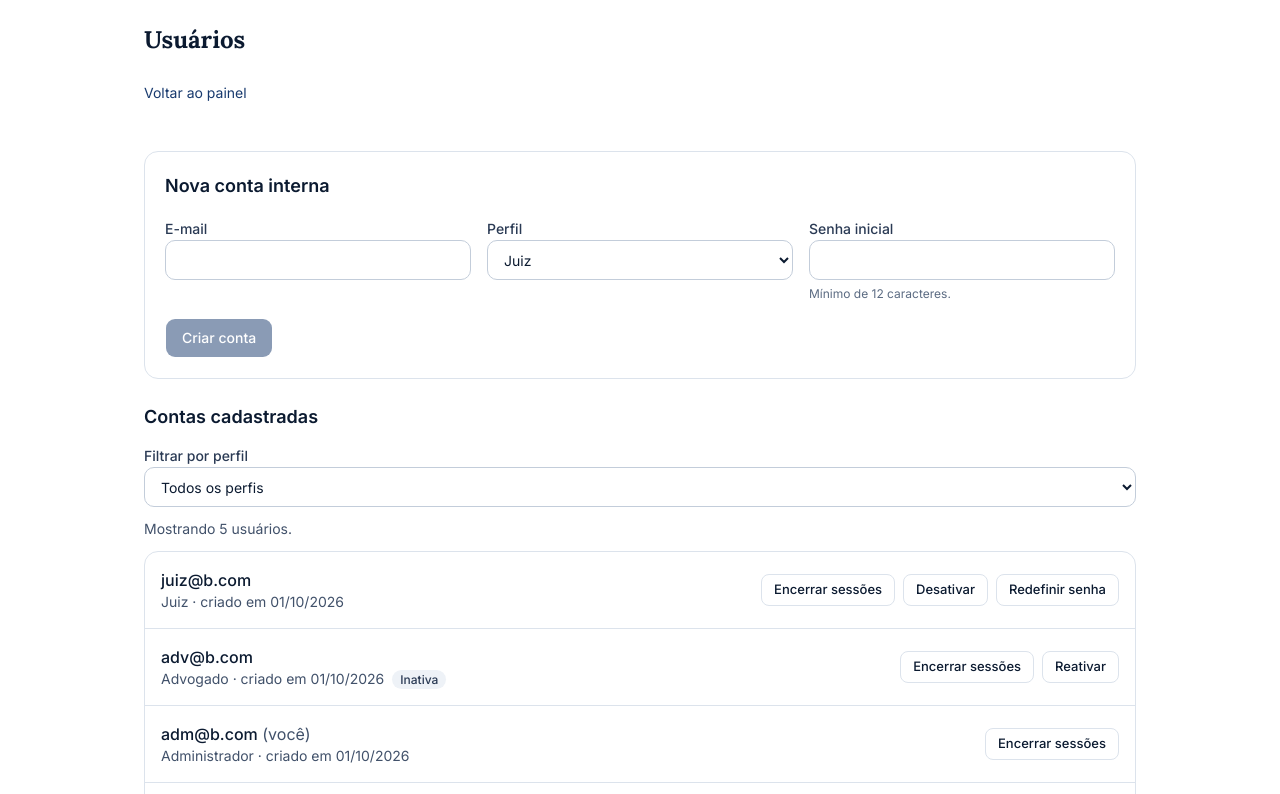
Test: UsersAdmin reset password › shows a 400 error in the alert and clears both fields
Expected: the text "juiz@b.com" is shown, [161,570,251,590]
Click the button "Redefinir senha" in the row of "juiz@b.com".
click(1058, 590)  # box [996,574,1119,606]
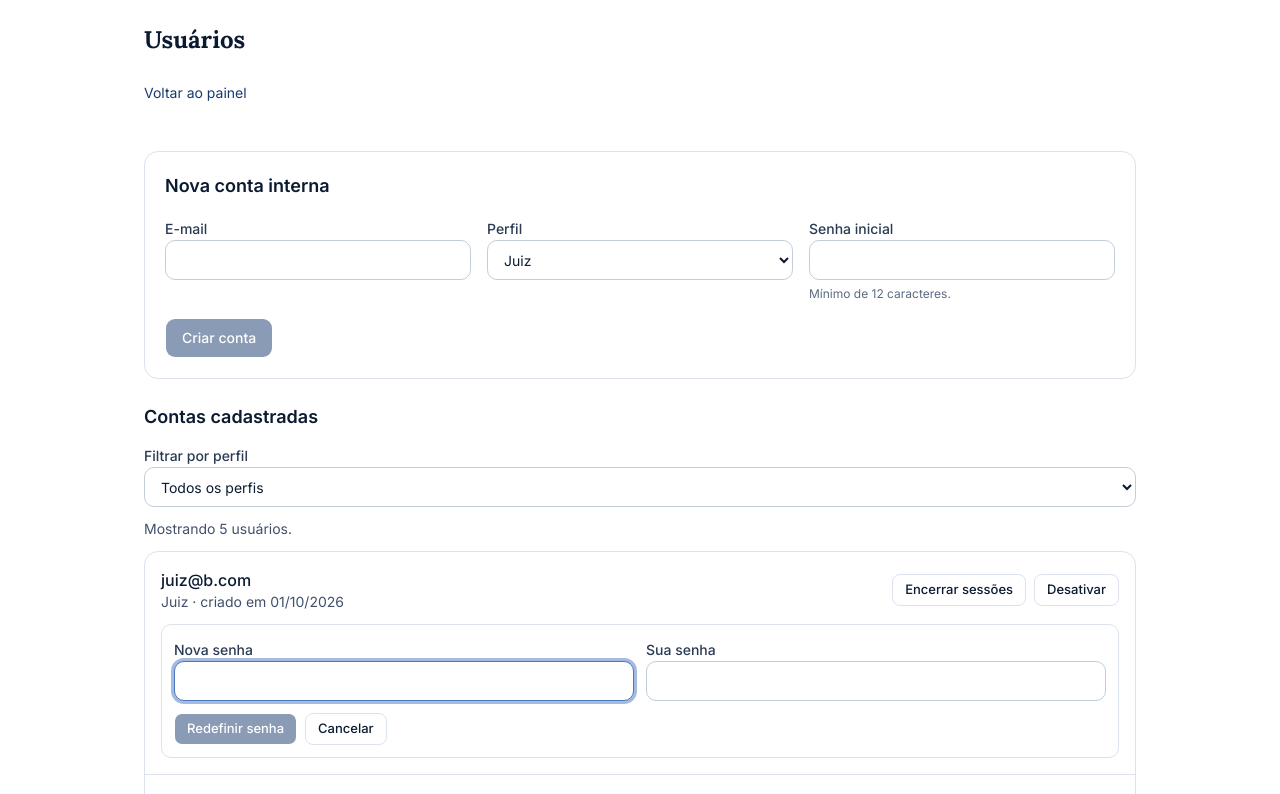
Type "nova-senha-forte" into the password field labelled "Nova senha".
click(404, 681); type("nova-senha-forte")  # box [174,661,634,701]
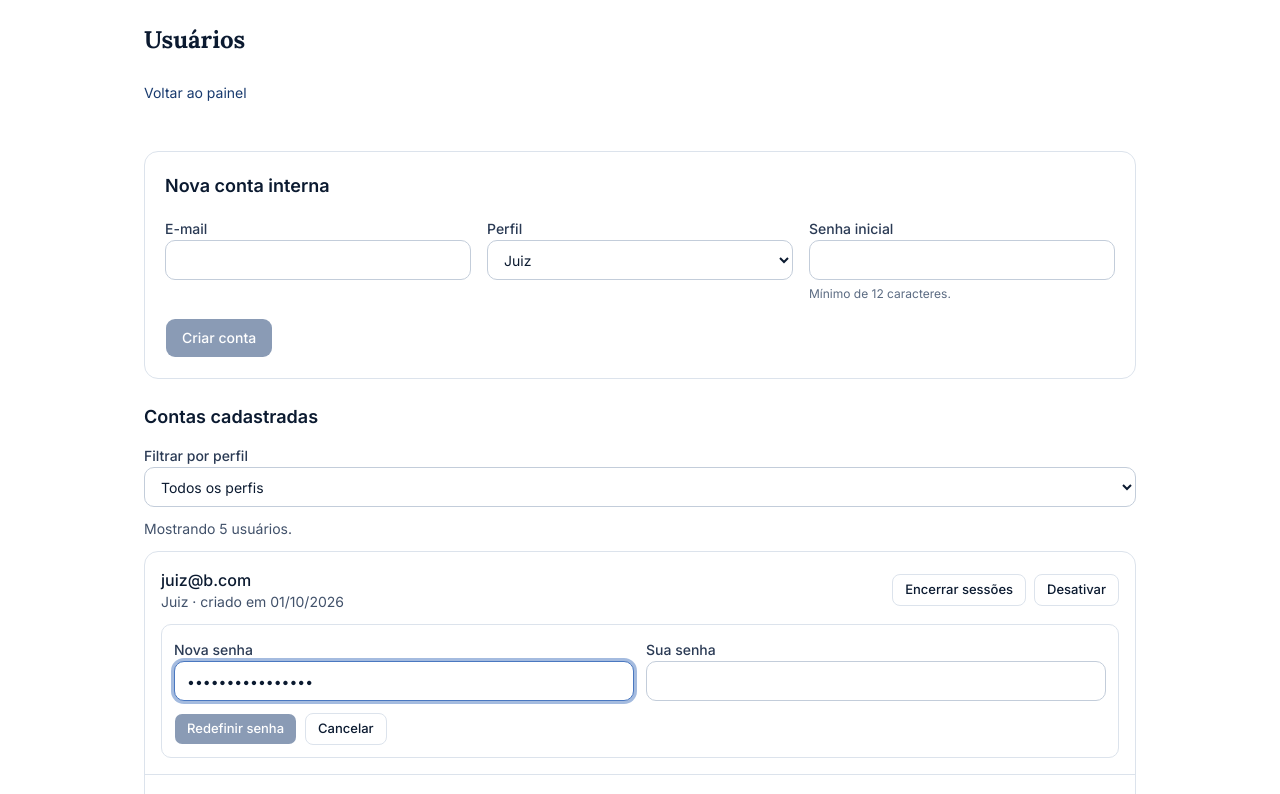
Type "minha-senha" into the password field labelled "Sua senha".
click(876, 681); type("minha-senha")  # box [646,661,1106,701]
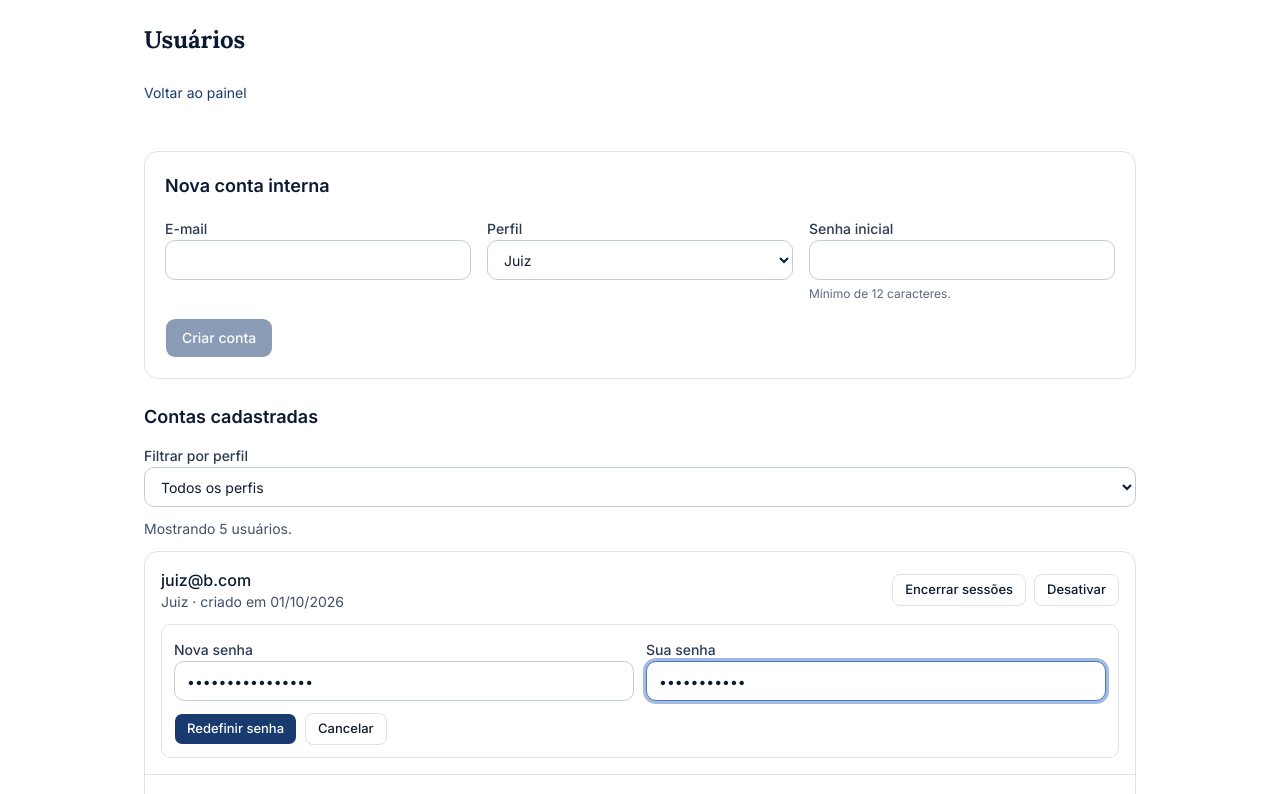
Click the button "Redefinir senha".
click(236, 729)  # box [174,713,297,745]
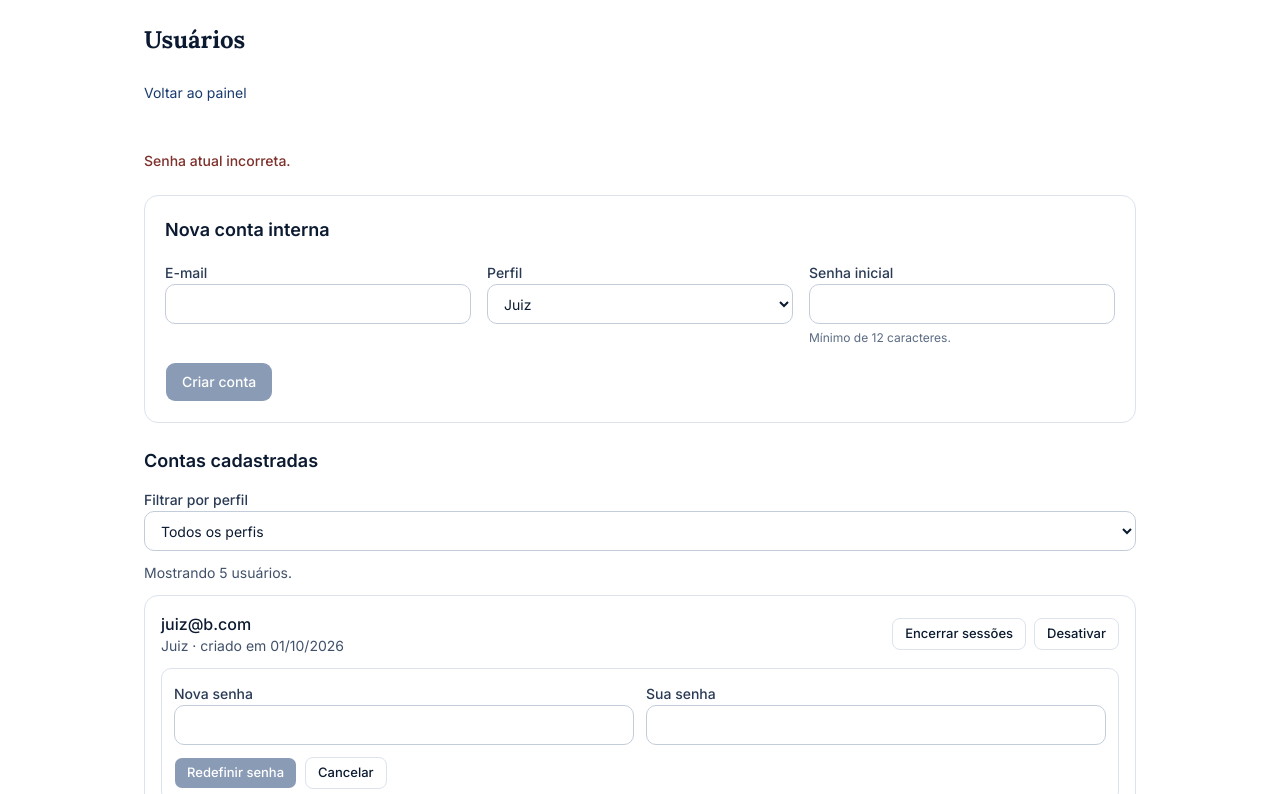
Expected: the password field labelled "Sua senha" is empty, [646,705,1106,745]
Result: the message reads "Senha atual incorreta." at [144,152,291,169]
Result: the password field labelled "Nova senha" is empty at [174,705,634,745]
